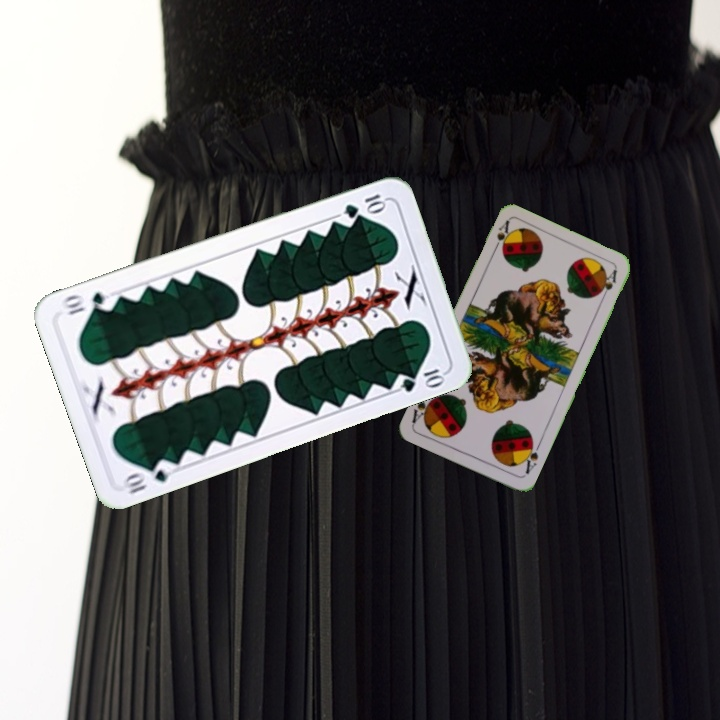G10: (121, 455, 178, 497), (340, 190, 389, 221)
SA: (518, 436, 543, 477), (489, 217, 513, 256)
